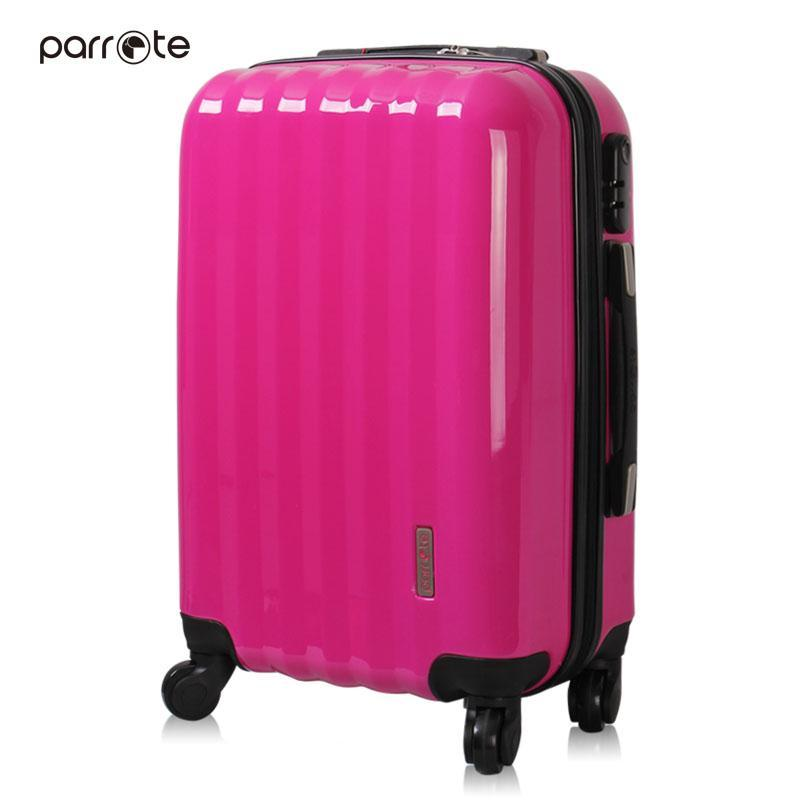suitcase: (162, 44, 642, 777)
